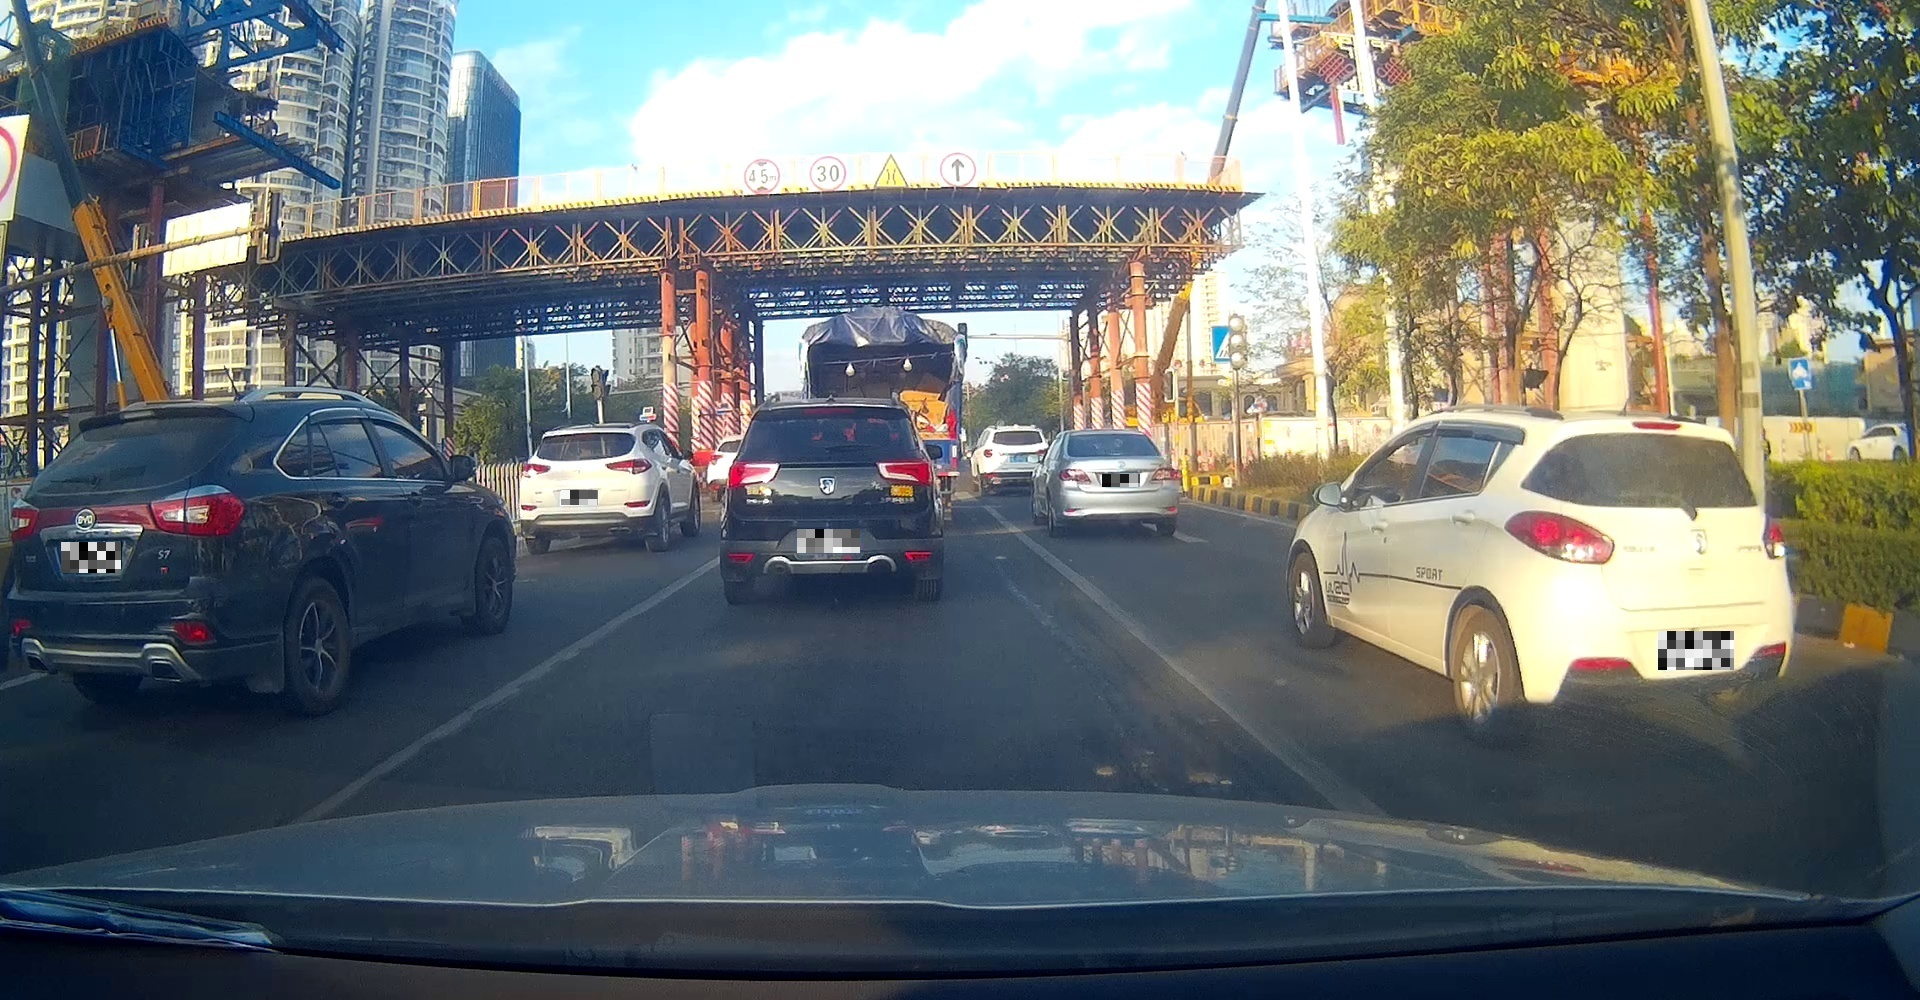L_light: (1502, 508, 1615, 566), (725, 459, 780, 486), (8, 499, 41, 542), (1060, 468, 1091, 486), (521, 463, 550, 478)
R_light: (150, 491, 245, 537), (875, 459, 933, 486), (1761, 513, 1787, 558), (604, 458, 651, 475), (1150, 467, 1180, 480)
T_light: (1632, 421, 1681, 431), (808, 406, 855, 415), (119, 410, 154, 419), (1109, 452, 1123, 456), (573, 434, 592, 437)
day-no: (1498, 412, 1794, 722), (8, 402, 246, 703), (717, 392, 935, 603), (517, 425, 653, 555), (1058, 426, 1181, 538)
plate_1: (61, 542, 121, 574)
plate_2: (561, 490, 598, 505)
plate_3: (797, 529, 860, 553)
plate_4: (1102, 475, 1140, 487)
plate_5: (1658, 631, 1735, 670)
